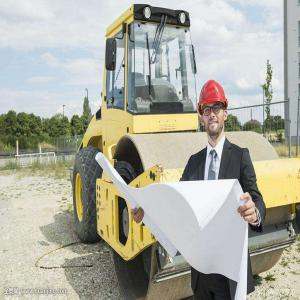red: (197, 80, 230, 139)
